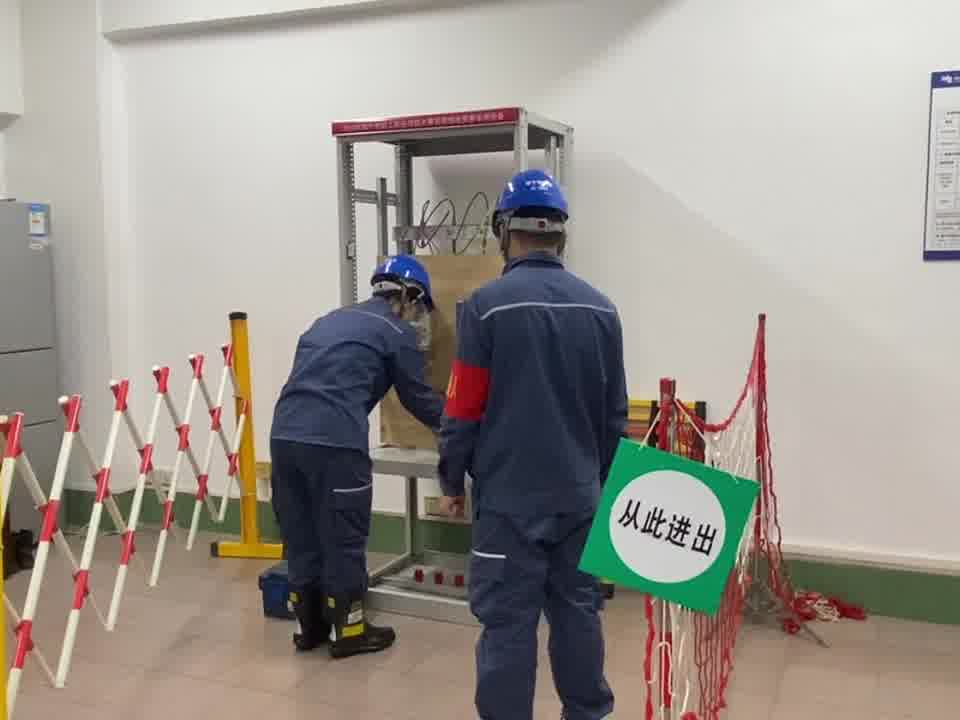badge: (444, 358, 494, 424)
downsuit: (465, 523, 617, 720), (267, 450, 376, 617)
halt: (489, 167, 573, 259), (371, 253, 435, 324)
hand: (439, 493, 469, 521)
inear: (392, 280, 428, 323)
intosign: (576, 431, 761, 615)
person: (442, 163, 636, 720), (264, 251, 438, 651)
shoe: (319, 588, 399, 656), (283, 581, 331, 653)
upsuit: (442, 256, 633, 516), (274, 301, 430, 436)
